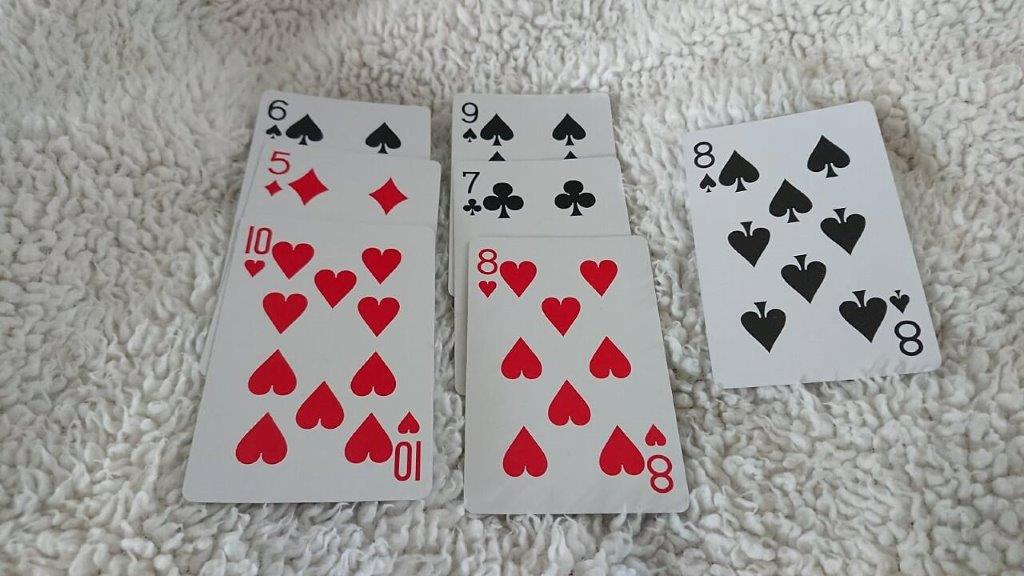10H: (238, 219, 279, 283)
5D: (259, 145, 299, 208)
6S: (259, 93, 293, 143)
7C: (457, 161, 488, 222)
8H: (471, 242, 506, 306)
8S: (686, 134, 727, 197)
9S: (456, 96, 486, 149)
